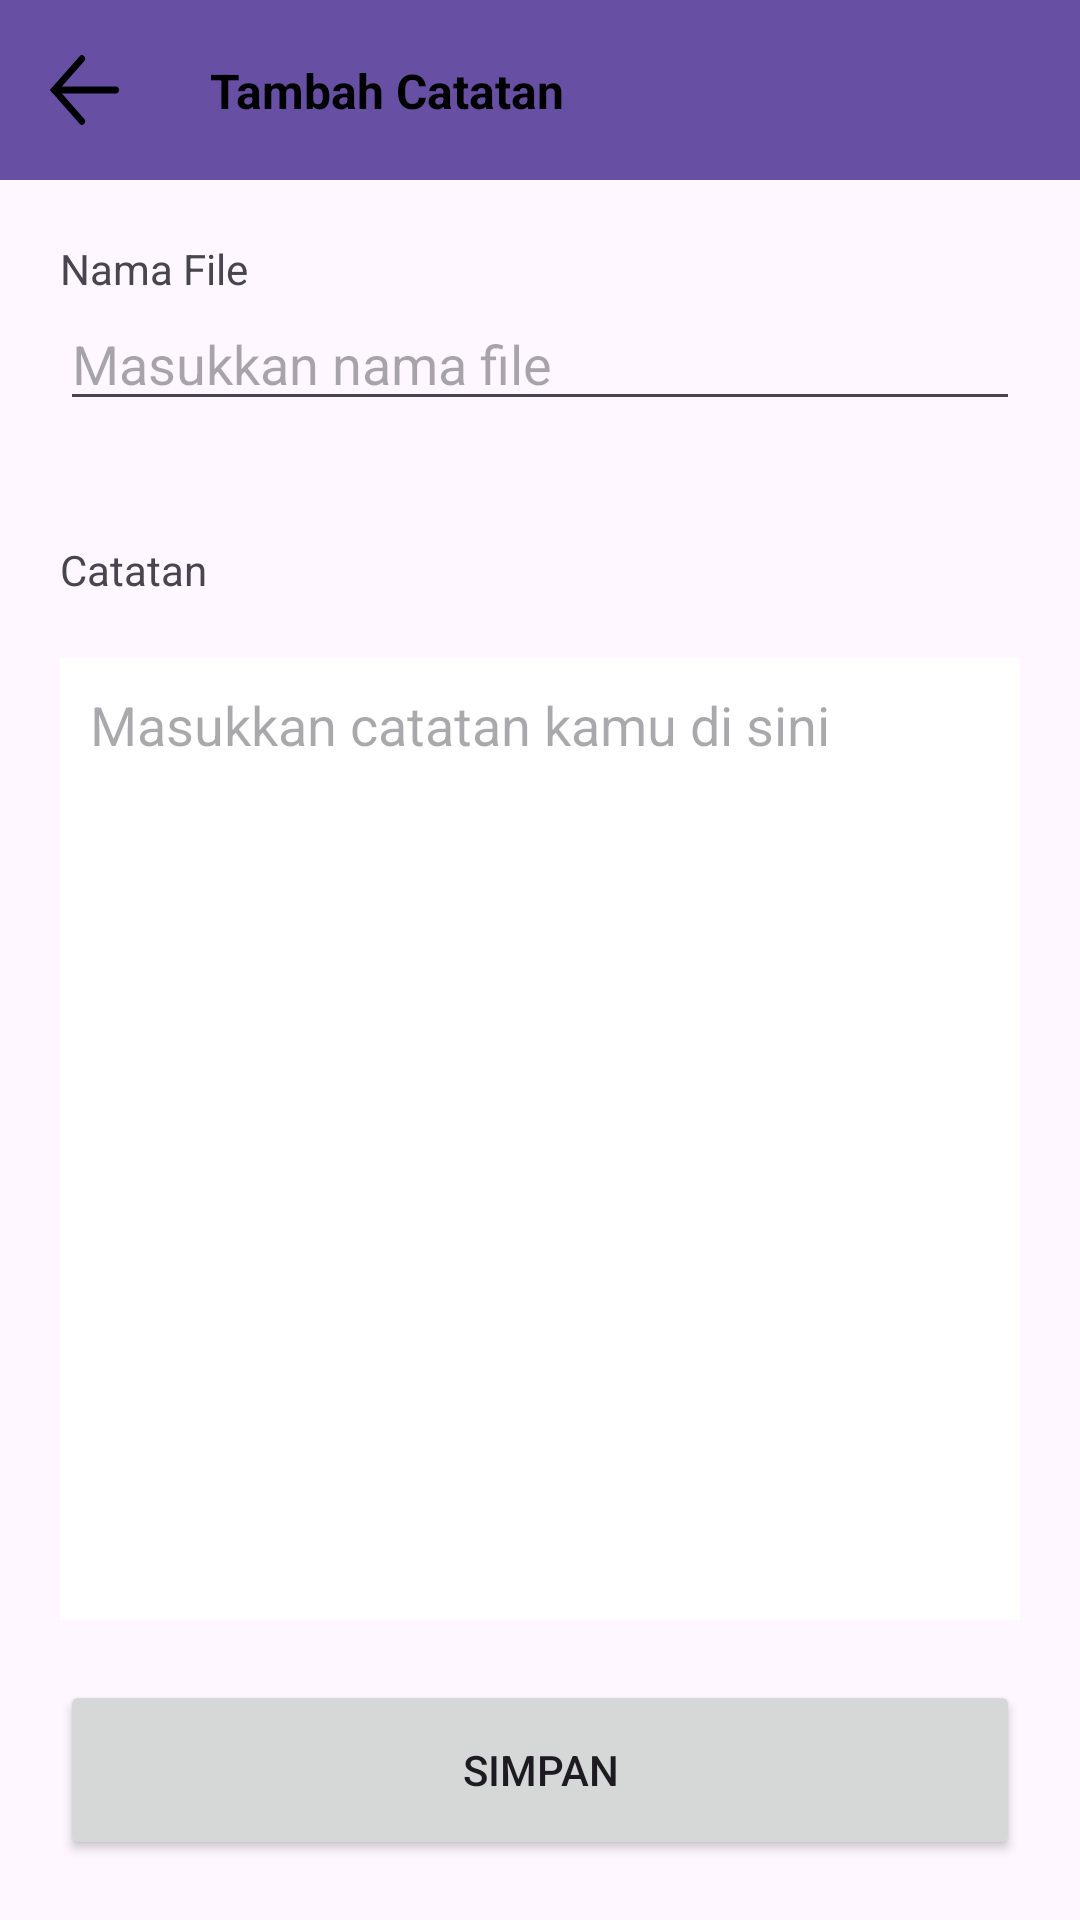

Where to tap for icons on this 1080×1920 app screen, as [x,y]:
back: [84,90]
